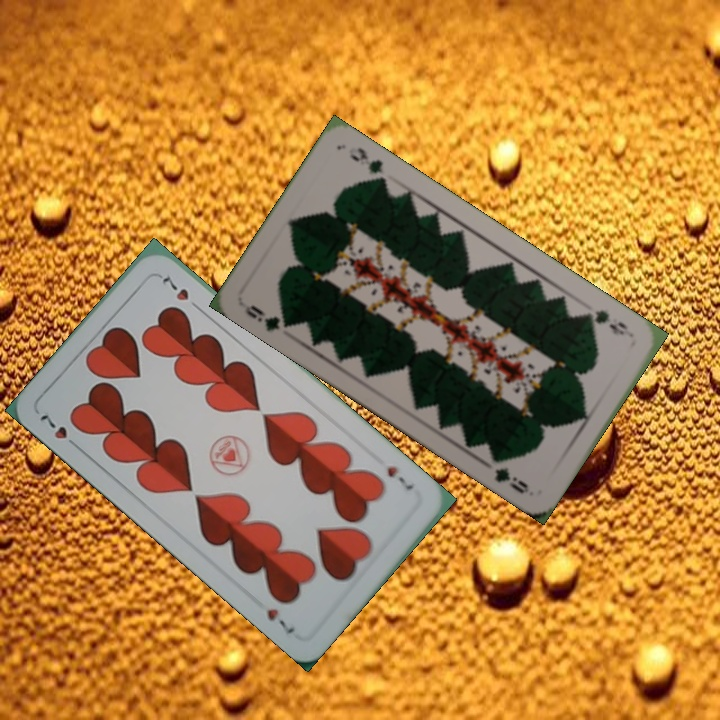G9: (579, 305, 637, 340), (240, 299, 297, 334)
H7: (35, 407, 83, 453), (383, 462, 416, 493)
